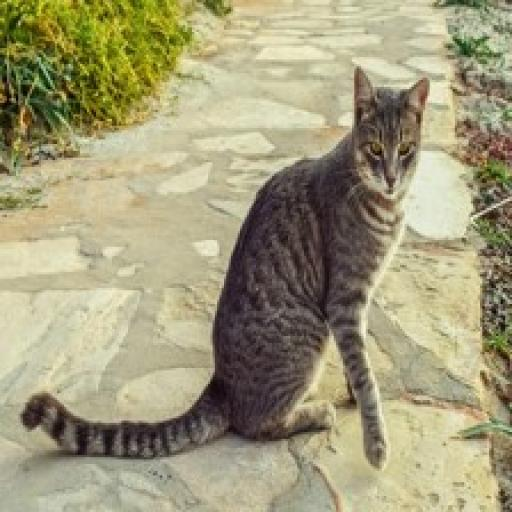cat: (20, 71, 434, 469)
